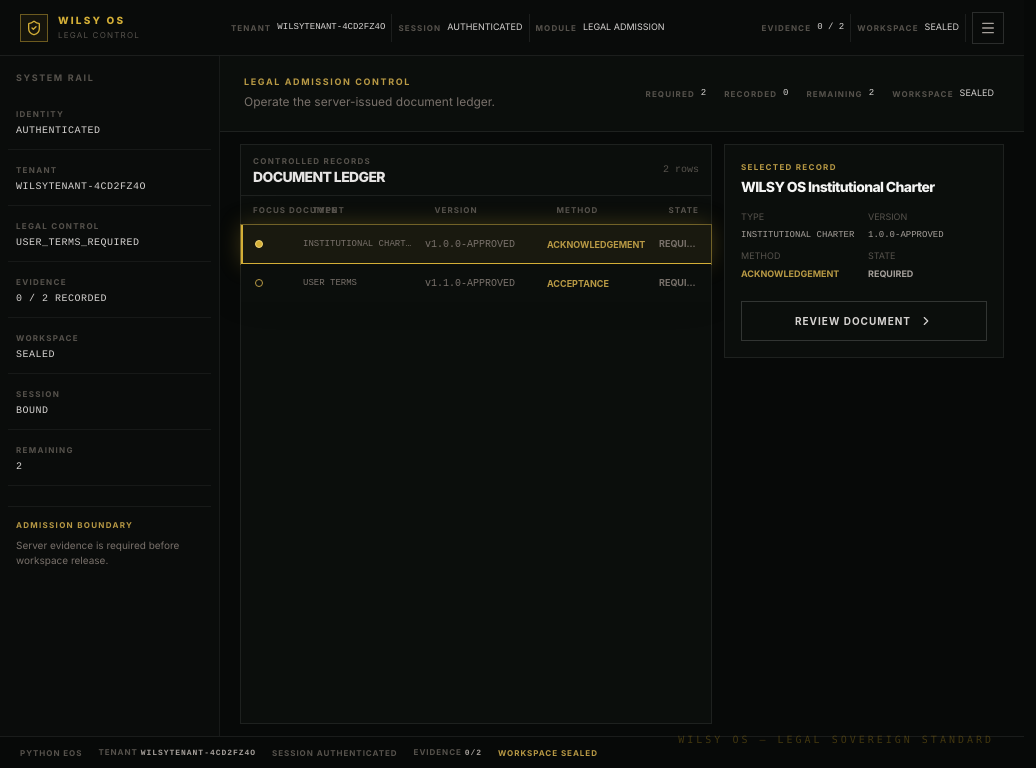
Test: LegalAcceptanceGate institutional interaction shell › resets the bounded reader to the top whenever focus moves to another record
This screenshot has width=1036, height=768.
Expected: the heading "Document ledger" is shown, x1=253 y1=171 x2=385 y2=185
Click the button "Review document" at point(864, 321), box x1=741 y1=301 x2=987 y2=341
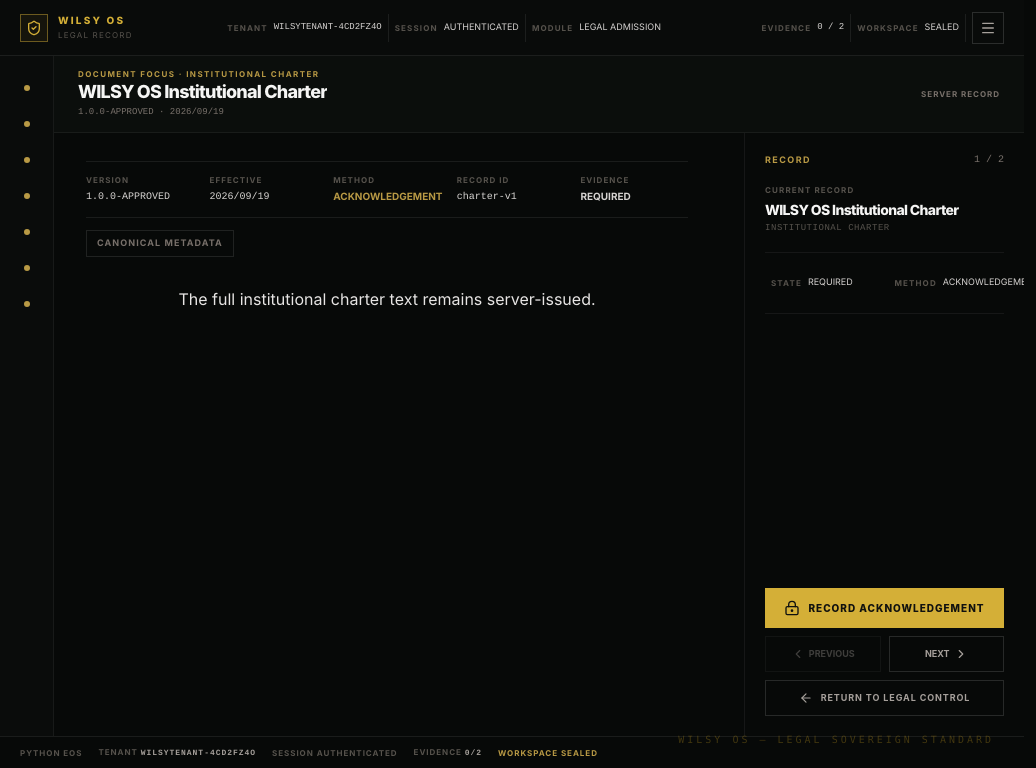
Click the button with aria-label "next record" at point(946, 654), box x1=888 y1=636 x2=1004 y2=672
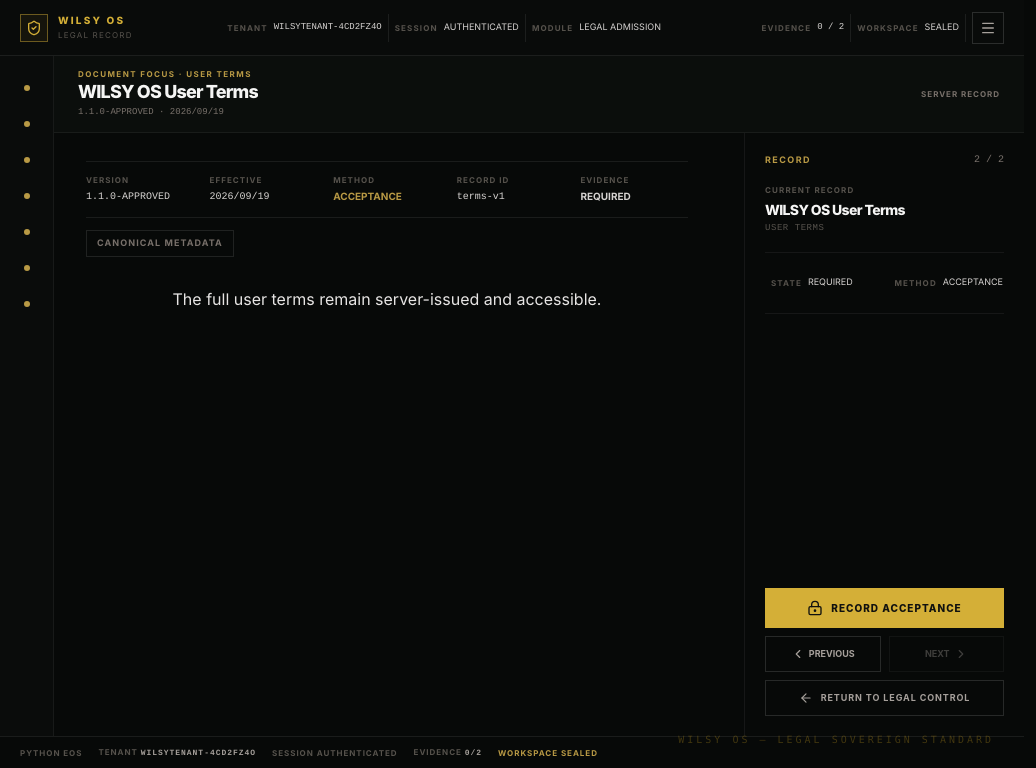
Expected: the heading "WILSY OS User Terms" below "Document focus ·" is shown, x1=78 y1=84 x2=258 y2=102
